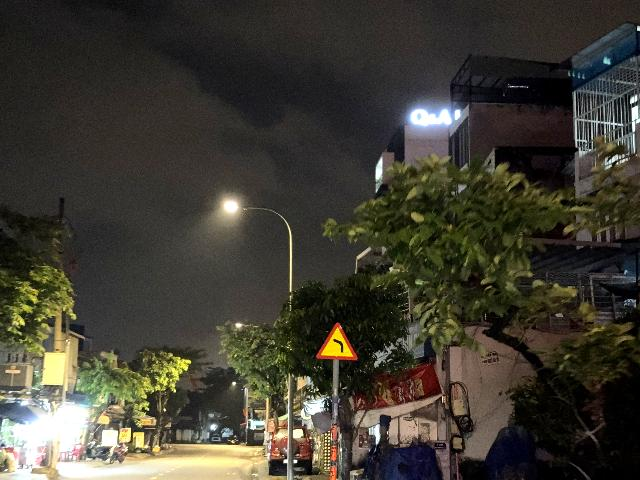cho-ngoat-nguy-hiem-ben-trai: (316, 322, 358, 361)
